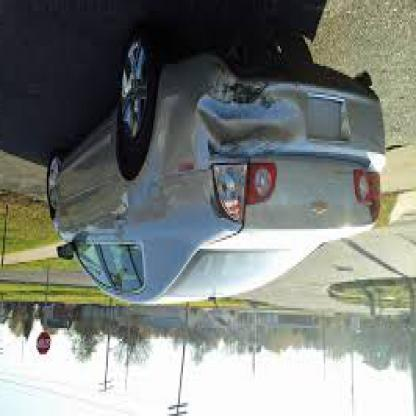dent: (197, 94, 280, 154), (148, 178, 180, 218), (110, 188, 132, 228)
